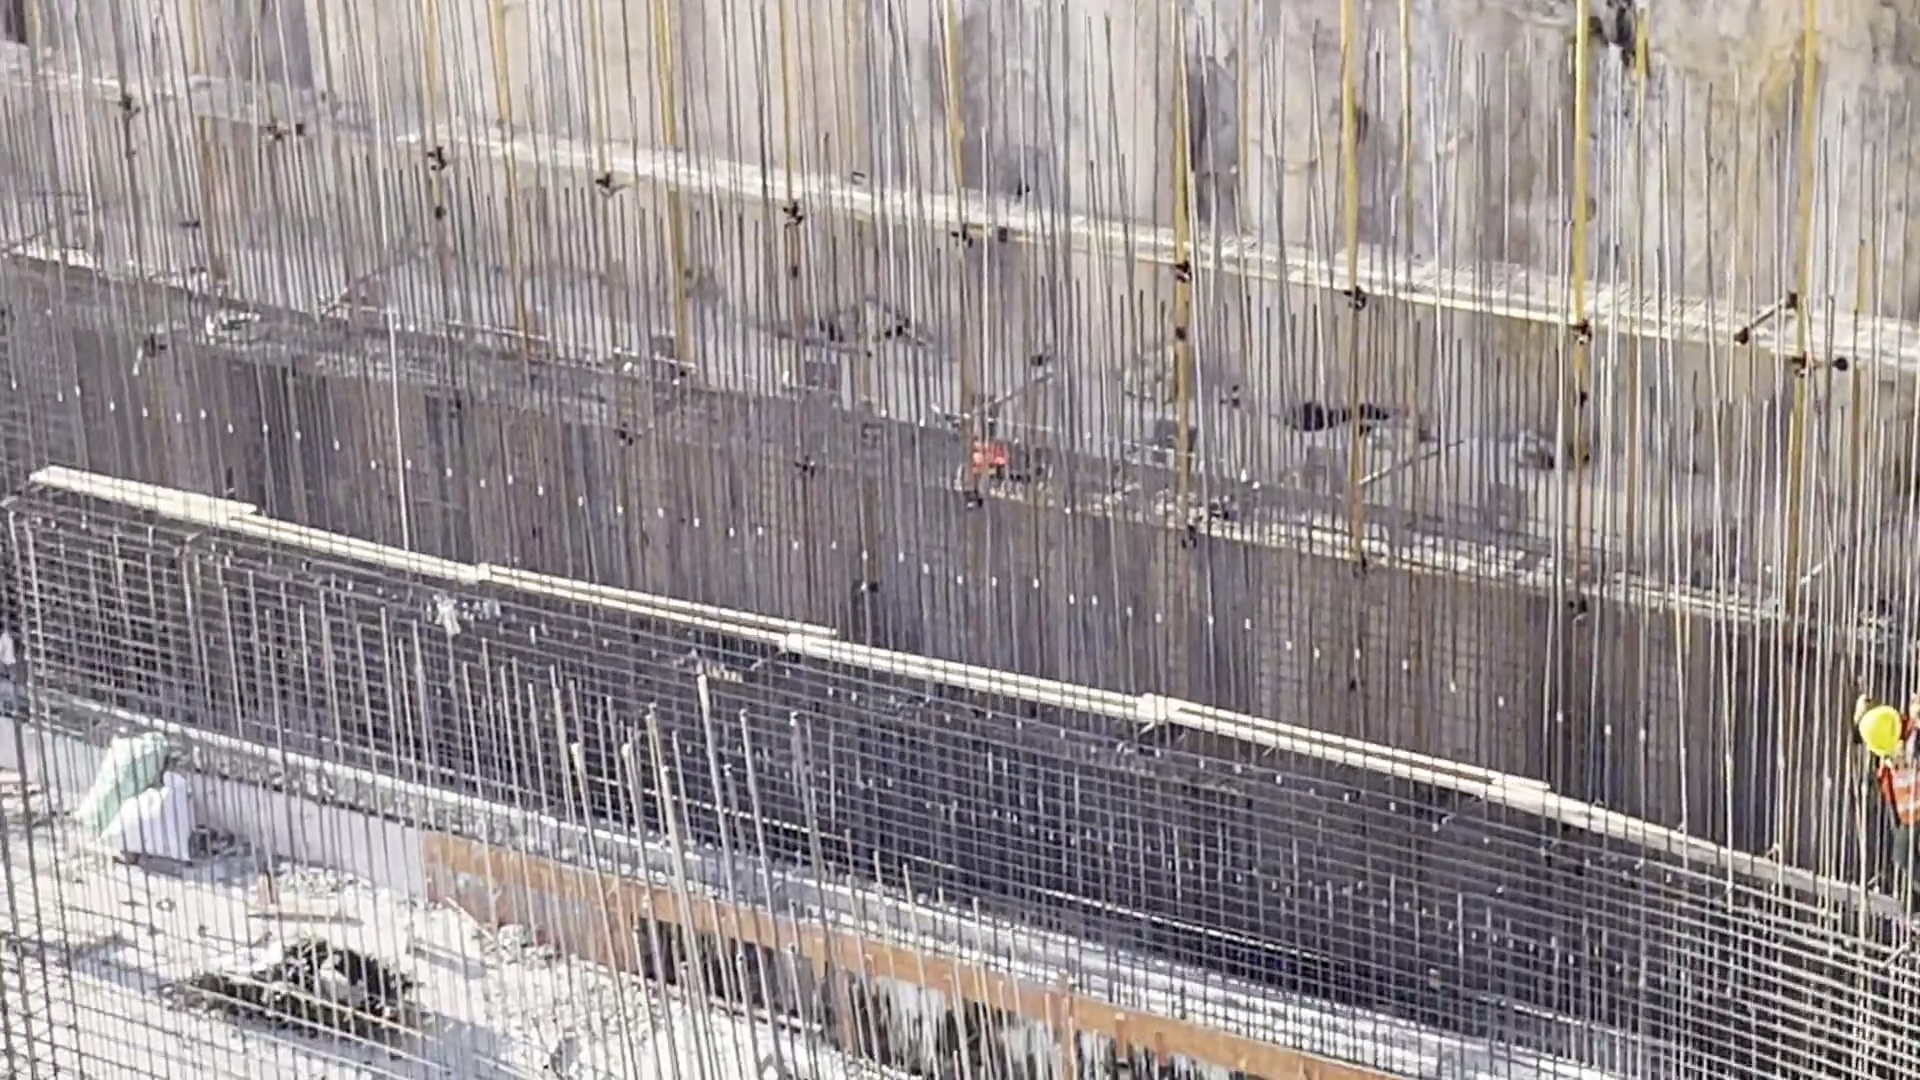helmet: (1860, 705, 1901, 756)
person: (1844, 672, 1920, 845)
vest: (1876, 735, 1920, 821)
